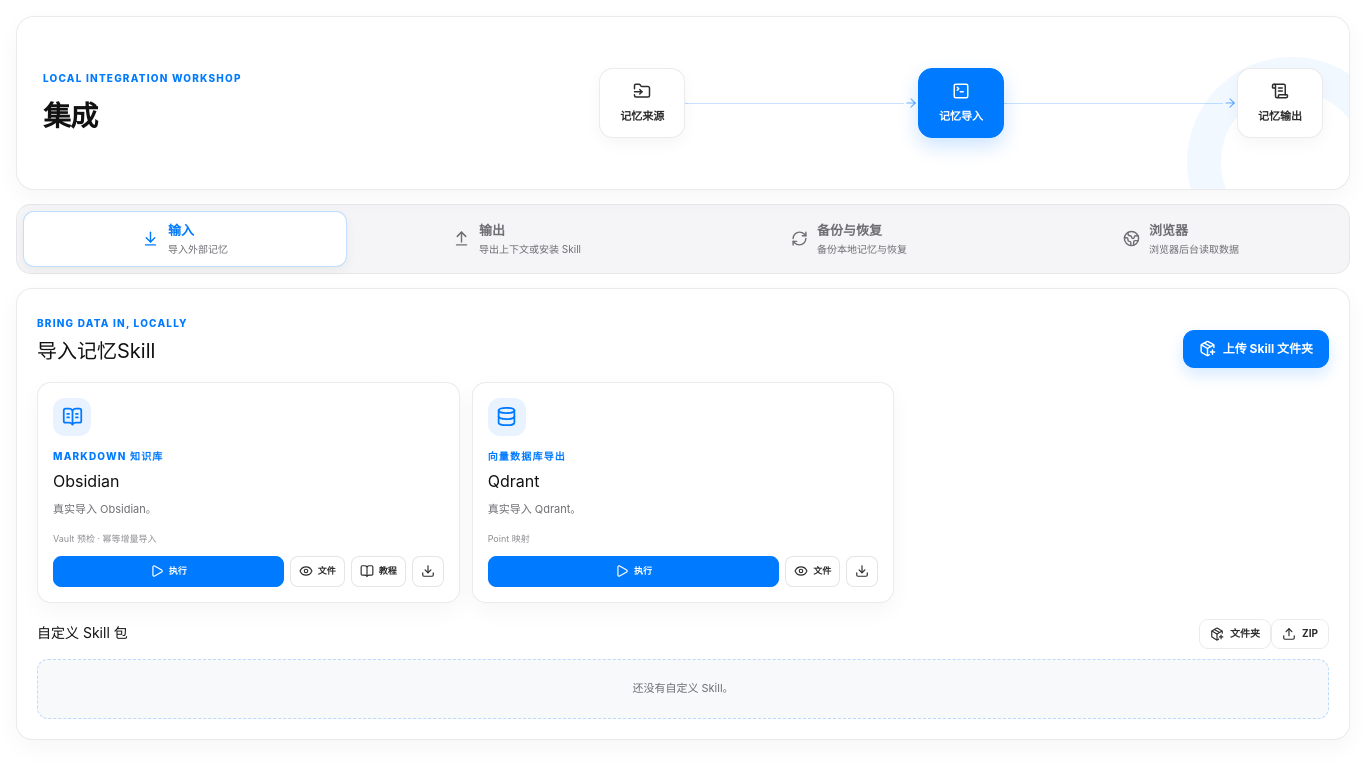
Test: IntegrationPanel › 输出 Tab 展示上下文包与可安装编码 Agent Skill
Expected: the heading "Obsidian" is shown, top-left (53, 470), bottom-right (120, 490)
Click the tab "输出 导出上下文或安装 Skill": coordinates (530, 248) top-left (355, 211), bottom-right (679, 266)
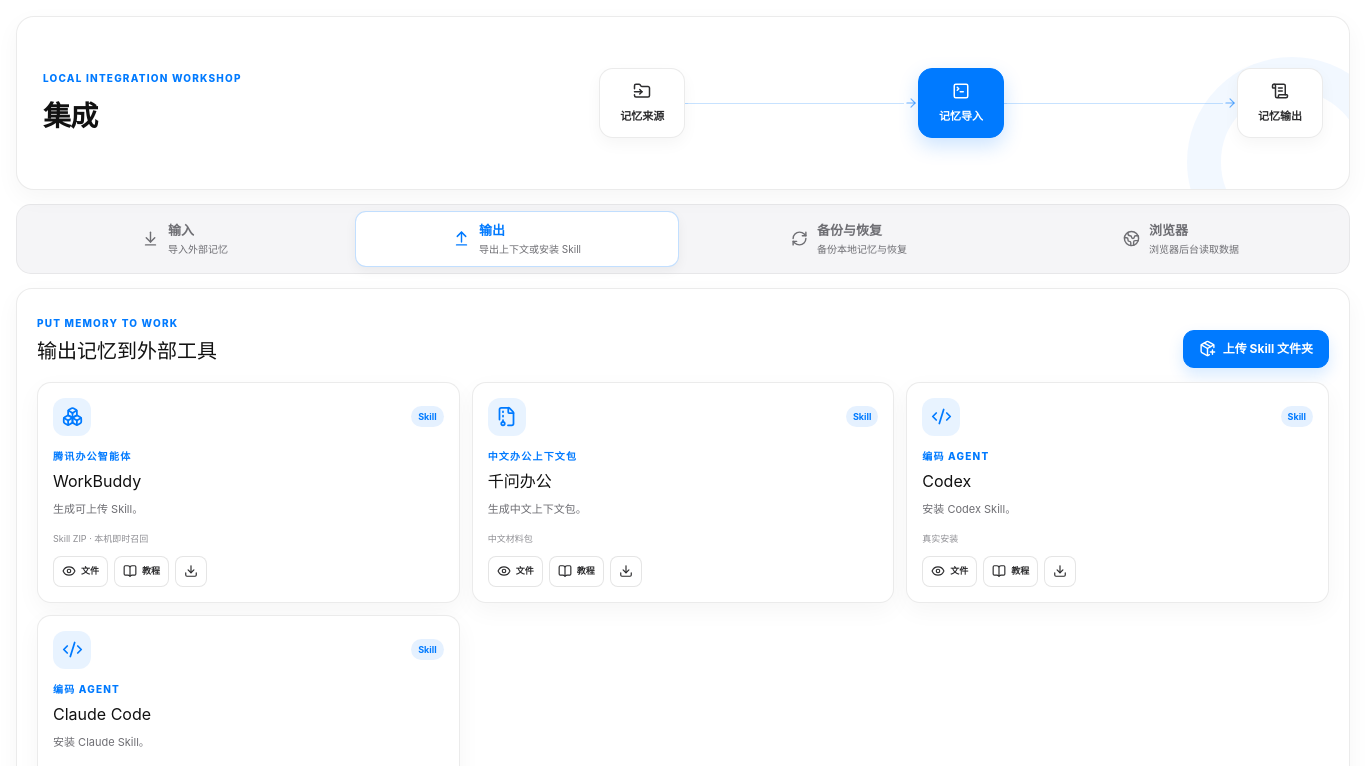
Result: the heading "WorkBuddy" is shown at top-left (53, 470), bottom-right (141, 490)
Result: the heading "千问办公" is shown at top-left (488, 470), bottom-right (552, 490)
Result: the heading "Codex" is shown at top-left (922, 470), bottom-right (971, 490)
